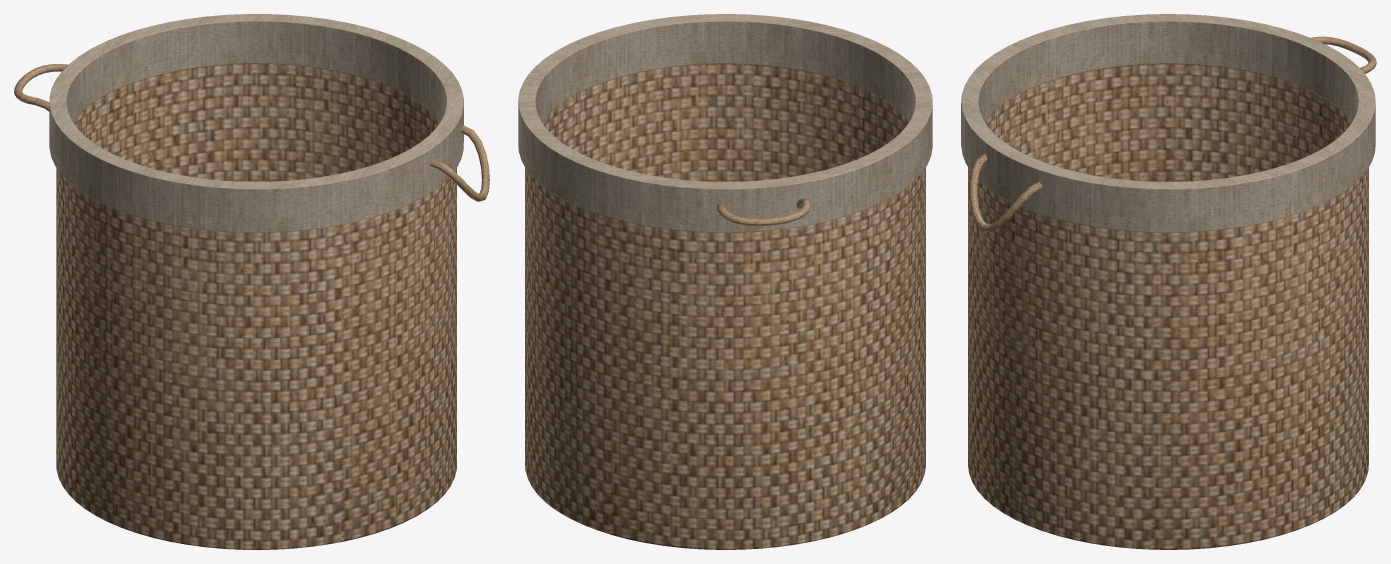
The model's file is laundry-basket-1.obj.
3 renders of one model, left to right at view 1: azimuth 30°, elevation 25°; view 2: azimuth 150°, elevation 25°; view 3: azimuth 270°, elevation 25°, orthographic.
Parts seen in each view (by area): view 1: Bathroom_accessories_054; view 2: Bathroom_accessories_054; view 3: Bathroom_accessories_054.
Boxes of the visible parts, bbox=[...] form: Bathroom_accessories_054: bbox=[14, 14, 489, 549]; Bathroom_accessories_054: bbox=[518, 14, 932, 549]; Bathroom_accessories_054: bbox=[961, 14, 1376, 549].
Size of the model in its own units: 15.86 by 15.38 by 15.9.
2 materials, 2 textured.
